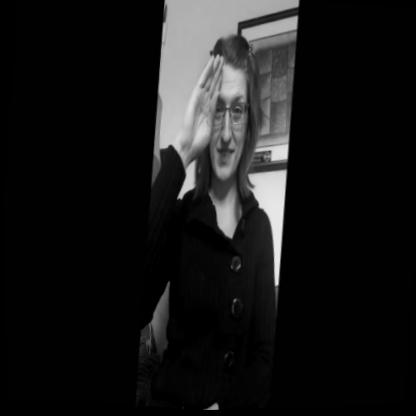Hello: (162, 7, 282, 224)
